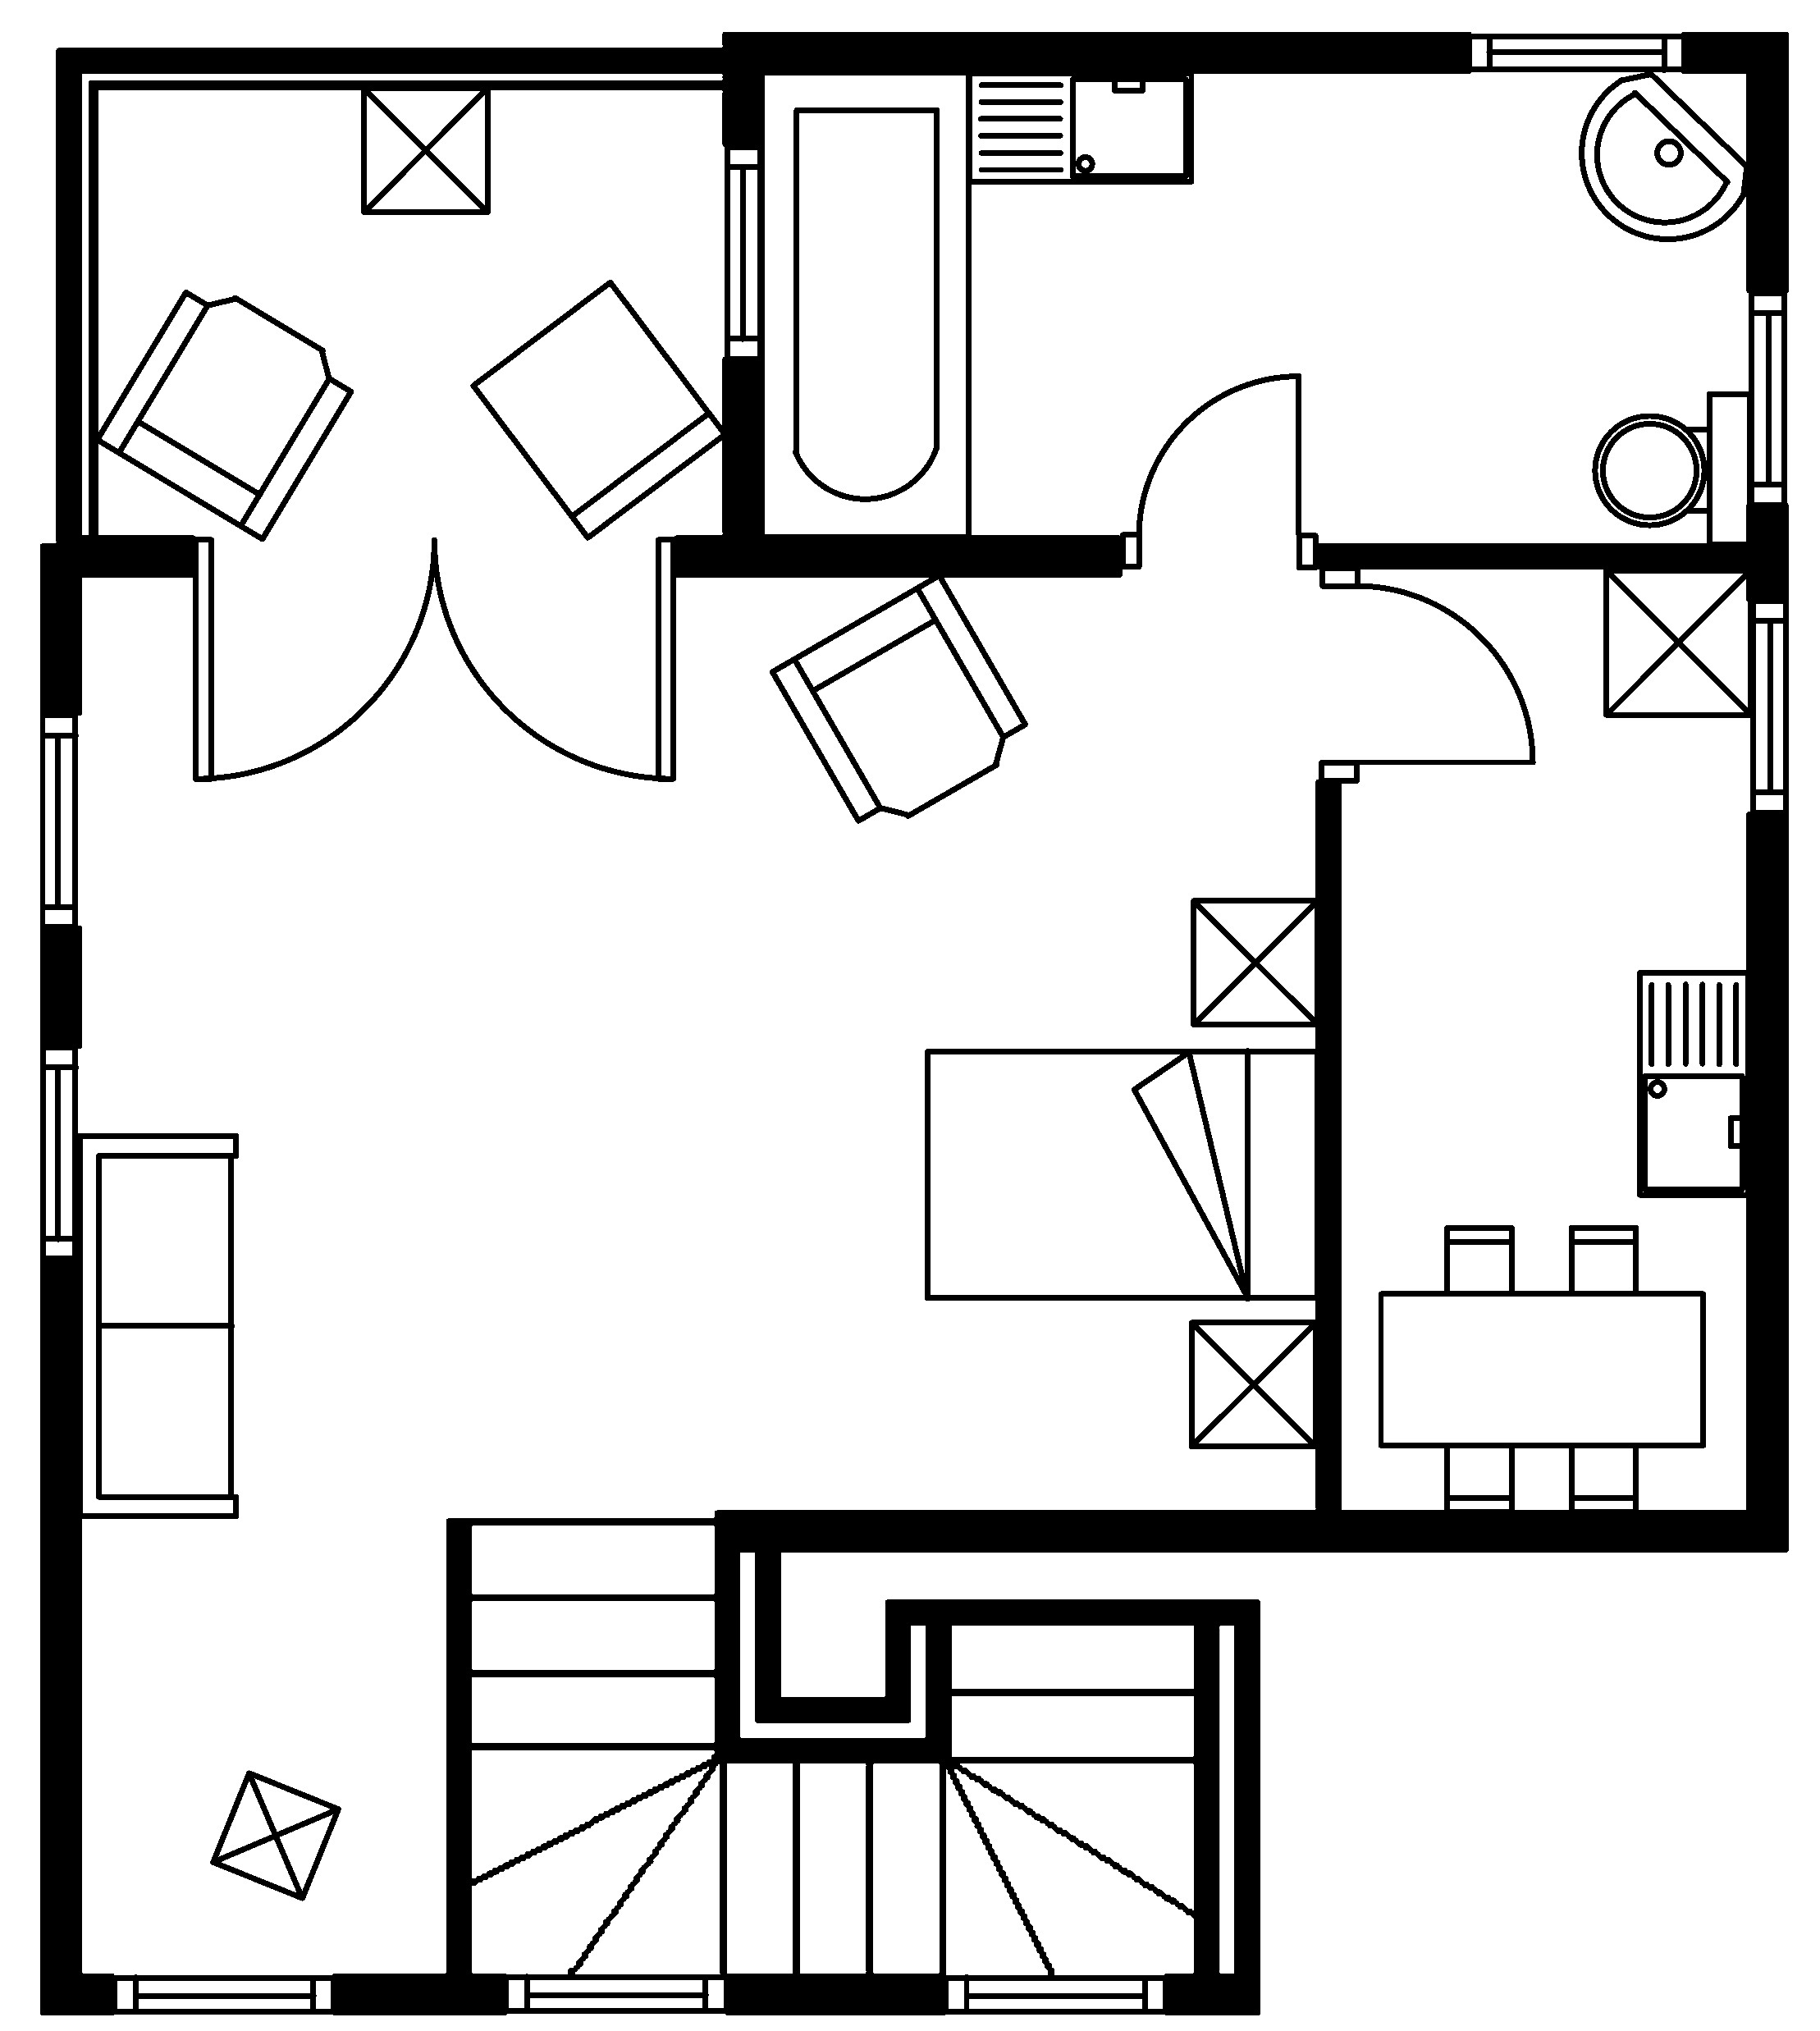armchair: (93, 288, 353, 543), (768, 571, 1028, 824)
bed: (922, 1047, 1321, 1302)
coffee_table: (1602, 566, 1753, 719), (1186, 1318, 1319, 1449), (209, 1769, 341, 1901), (1189, 896, 1321, 1028), (360, 84, 490, 214)
dining_table: (1376, 1223, 1706, 1516)
large_sink: (1592, 388, 1753, 548)
large_sofa: (76, 1131, 239, 1520)
sink: (1634, 968, 1751, 1198), (964, 69, 1195, 184)
small_sink: (1578, 70, 1750, 241)
small_sofa: (469, 278, 727, 541)
tub: (757, 69, 971, 539)
